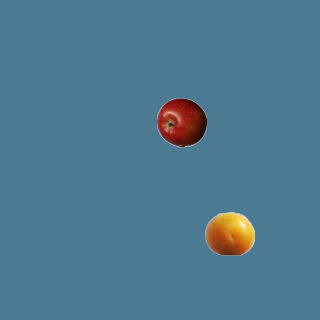Apple Braeburn: (156, 97, 206, 147)
Cherry Wax Yellow: (204, 208, 254, 258)
